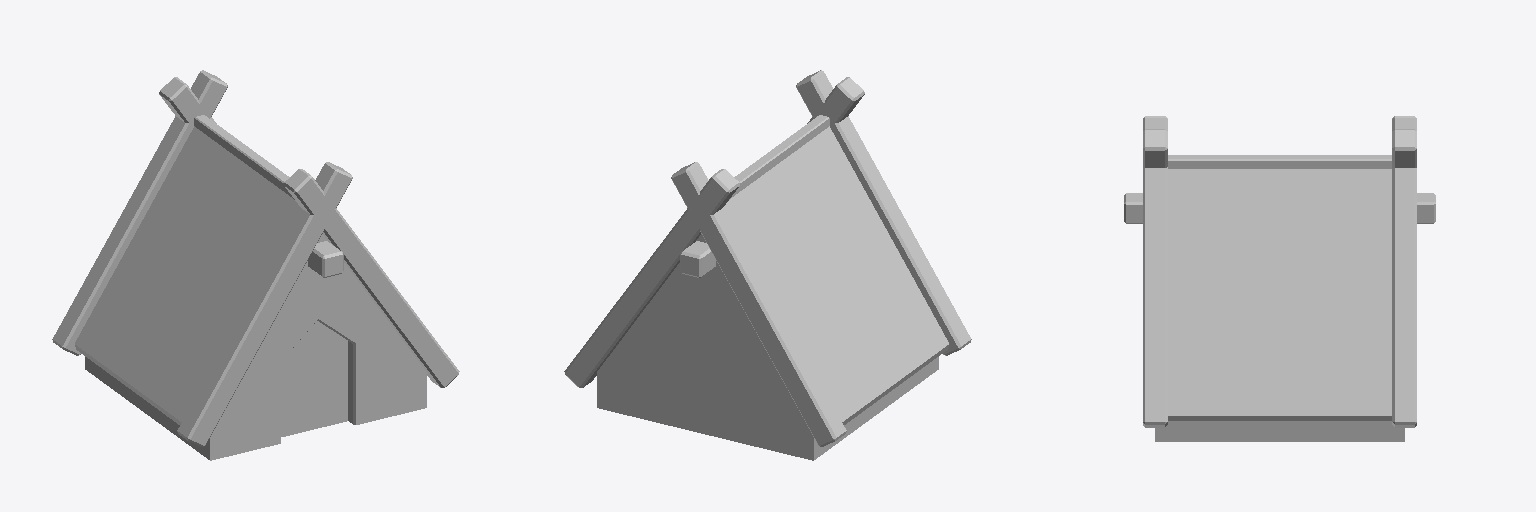
3 views of the same model, side by side, from view 1: azimuth 30°, elevation 25°; view 2: azimuth 150°, elevation 25°; view 3: azimuth 270°, elevation 25° (orthographic).
Parts seen in each view (by area): view 1: Roof, Beams, Walls; view 2: Roof, Beams, Walls; view 3: Roof, Beams, Walls.
Boxes of the visible parts, x1=… form: Roof: x1=75, y1=126, x2=299, y2=424; Beams: x1=52, y1=70, x2=459, y2=446; Walls: x1=85, y1=234, x2=426, y2=460; Roof: x1=724, y1=126, x2=948, y2=424; Beams: x1=564, y1=70, x2=971, y2=446; Walls: x1=597, y1=234, x2=938, y2=460; Roof: x1=1168, y1=169, x2=1391, y2=420; Beams: x1=1124, y1=116, x2=1435, y2=427; Walls: x1=1155, y1=421, x2=1404, y2=441.
Bounding box in the file's own units: 0.6295 × 0.5871 × 0.625.